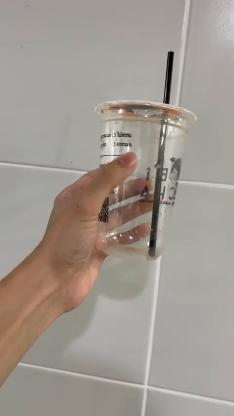Plastic Cup: (96, 99, 198, 261)
